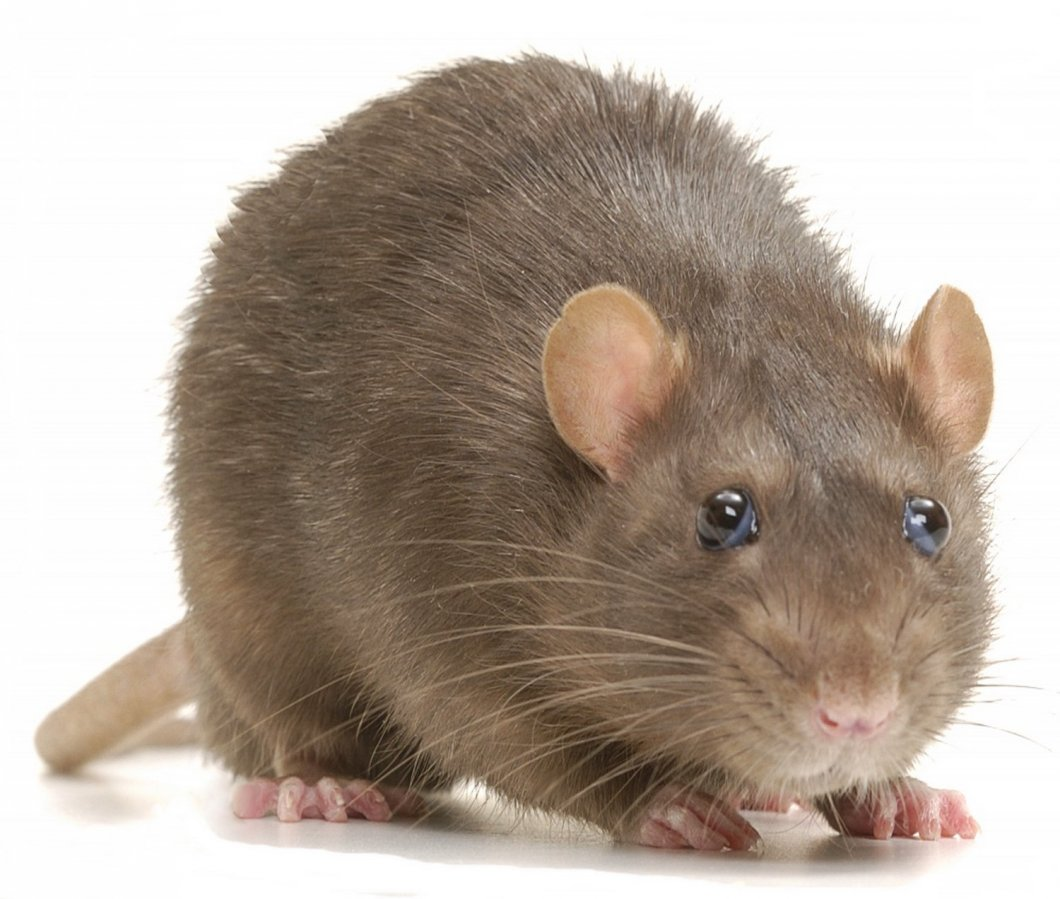rat: (12, 38, 1033, 876)
